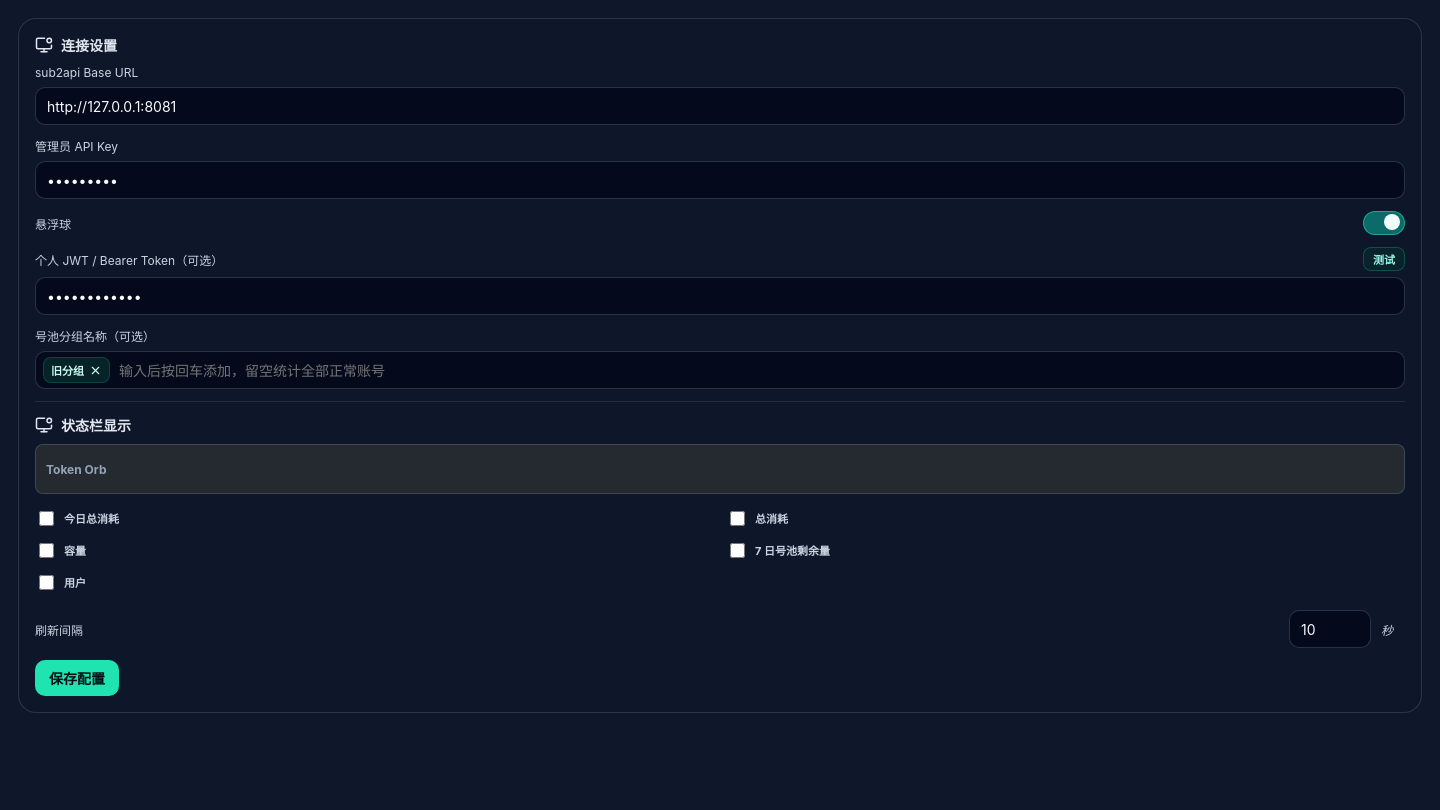
App settings sync › tests personal JWT independently from admin API settings
The image size is (1440, 810).
Click the button with class "secondary-mini-button": {"x": 1384, "y": 259} top-left (1363, 247), bottom-right (1405, 271)
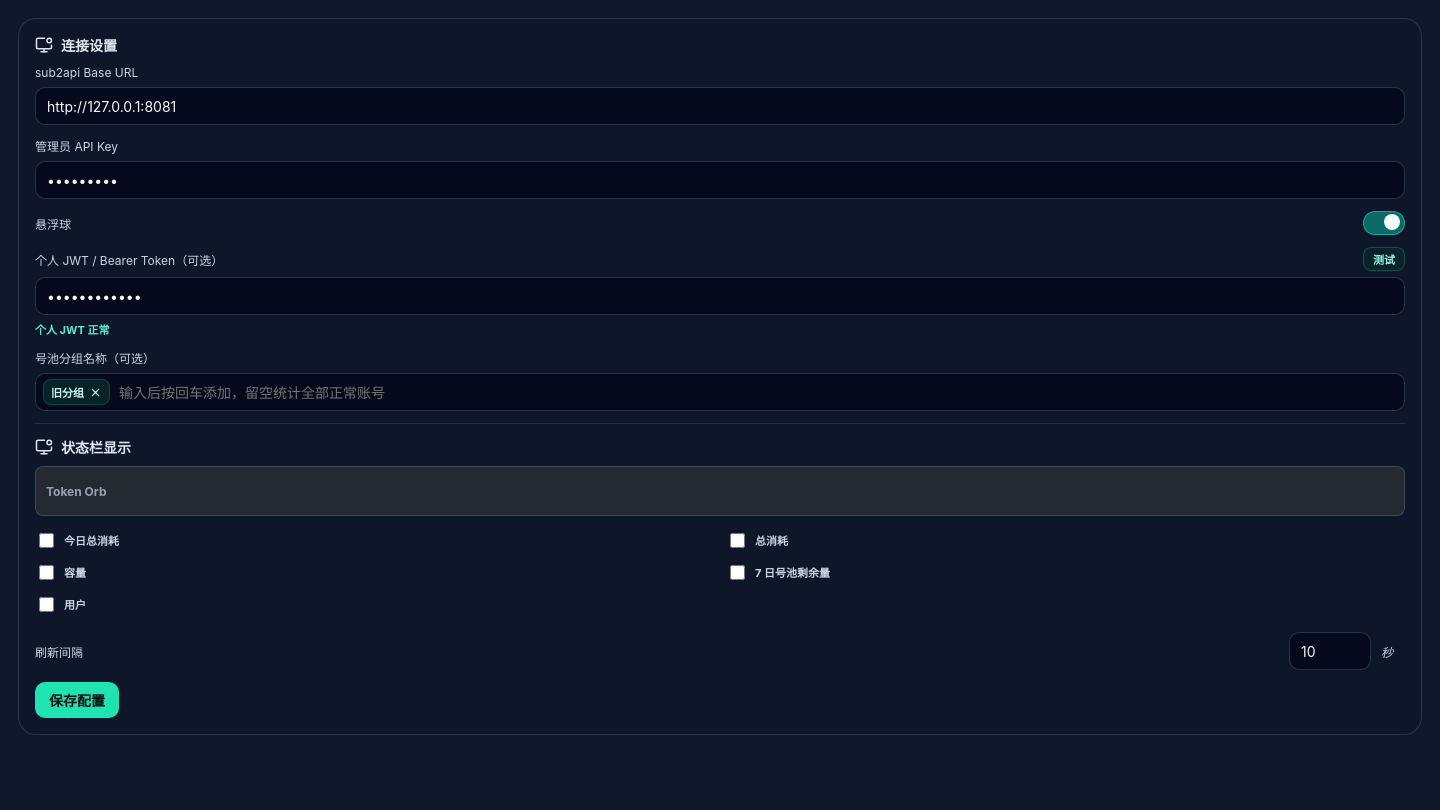
Check: the text "个人 JWT 正常" is shown, box top-left (35, 323), bottom-right (109, 337)
